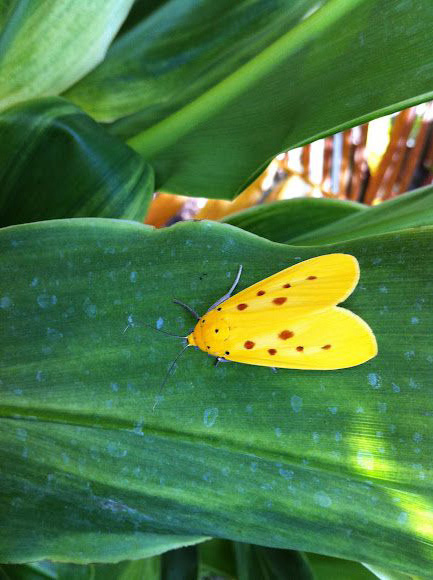Agape chloropyga: (140, 247, 380, 413)
moth: (140, 251, 380, 417)
